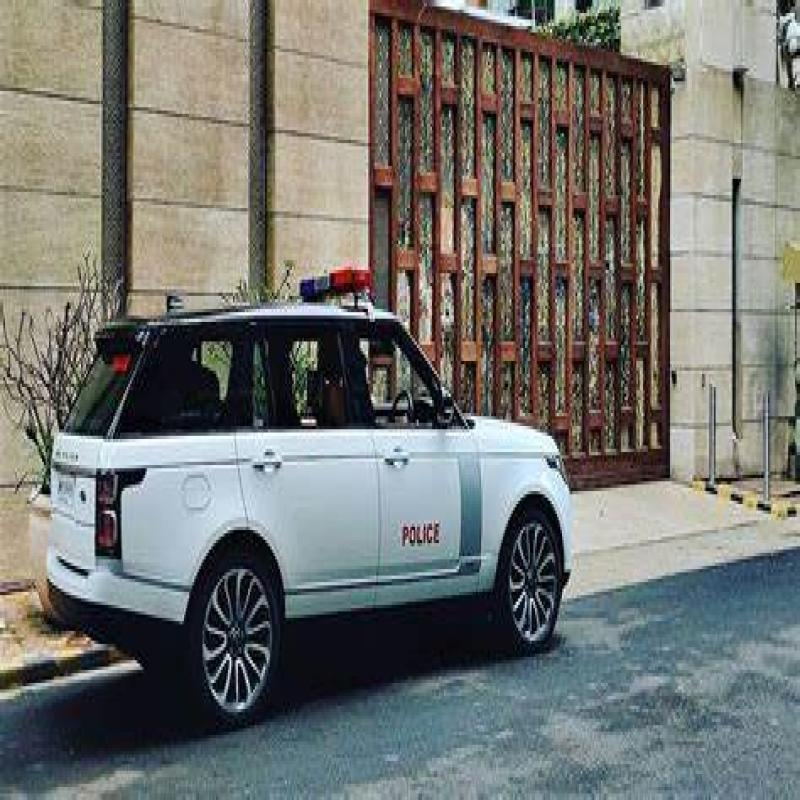AmbulanceSiren: (293, 234, 377, 328)
